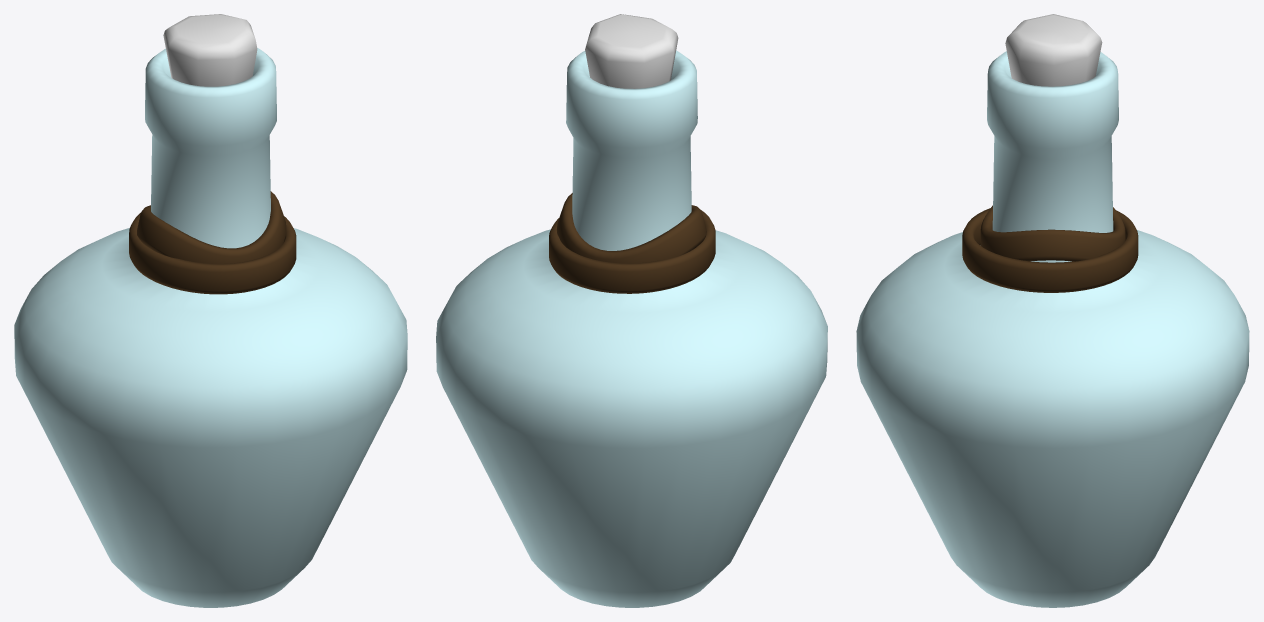
File: m_BluePotion5.fbx
The picture shows the model from 3 angles, left to right: view 1: azimuth 30°, elevation 25°; view 2: azimuth 150°, elevation 25°; view 3: azimuth 270°, elevation 25°; orthographic projection.
Visible parts, largest first — view 1: m_BluePotion5; view 2: m_BluePotion5; view 3: m_BluePotion5.
Part boxes in pixels (bbox=[...]): m_BluePotion5: bbox=[14, 14, 407, 607]; m_BluePotion5: bbox=[436, 14, 827, 607]; m_BluePotion5: bbox=[856, 14, 1249, 607].
Bounding box in the file's own units: 48.89 × 76.21 × 48.89.
